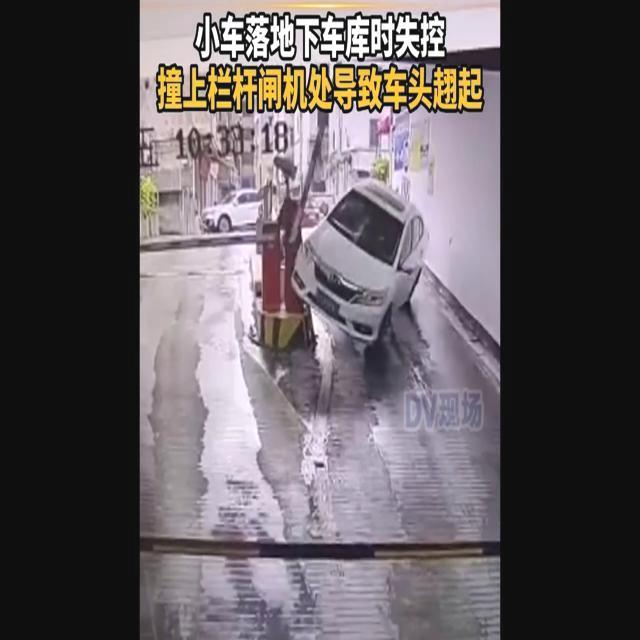accident: (250, 175, 432, 352)
